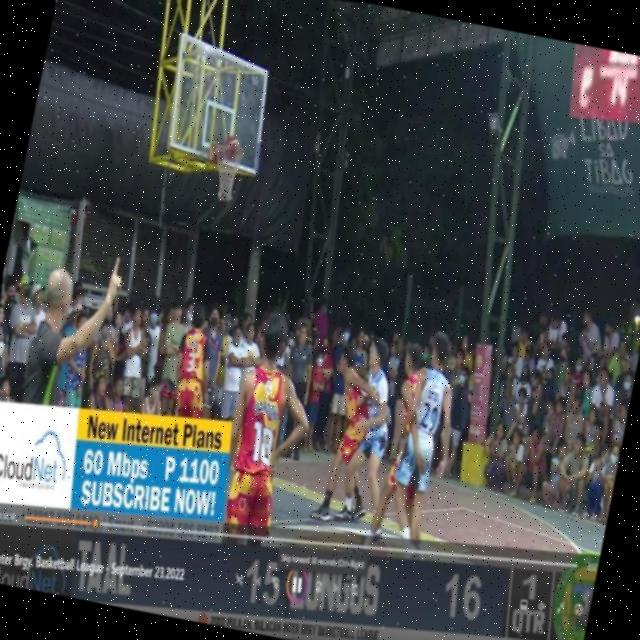ball: (218, 128, 244, 162)
hoop: (212, 142, 246, 158)
